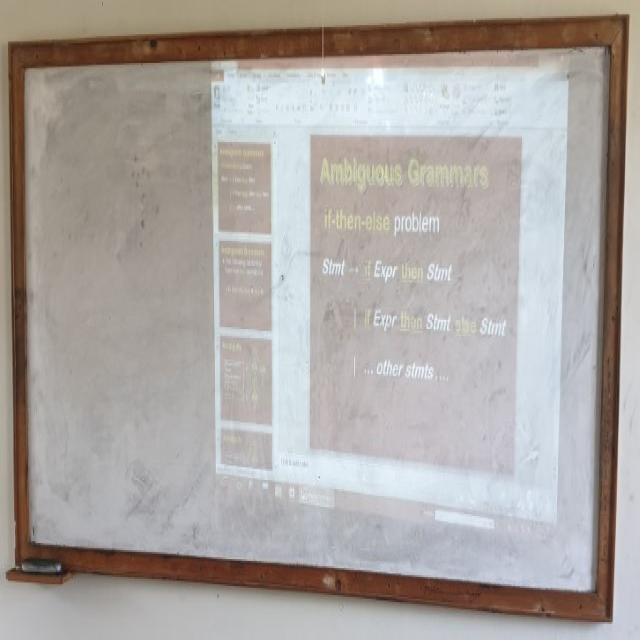Slide: (209, 44, 569, 550)
White-board: (16, 26, 619, 604)
